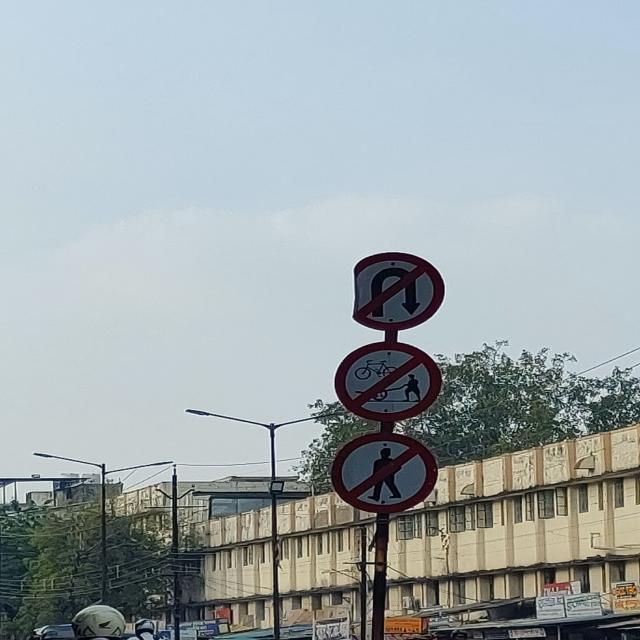CYCLE_PROHIBITED: (332, 340, 447, 420)
